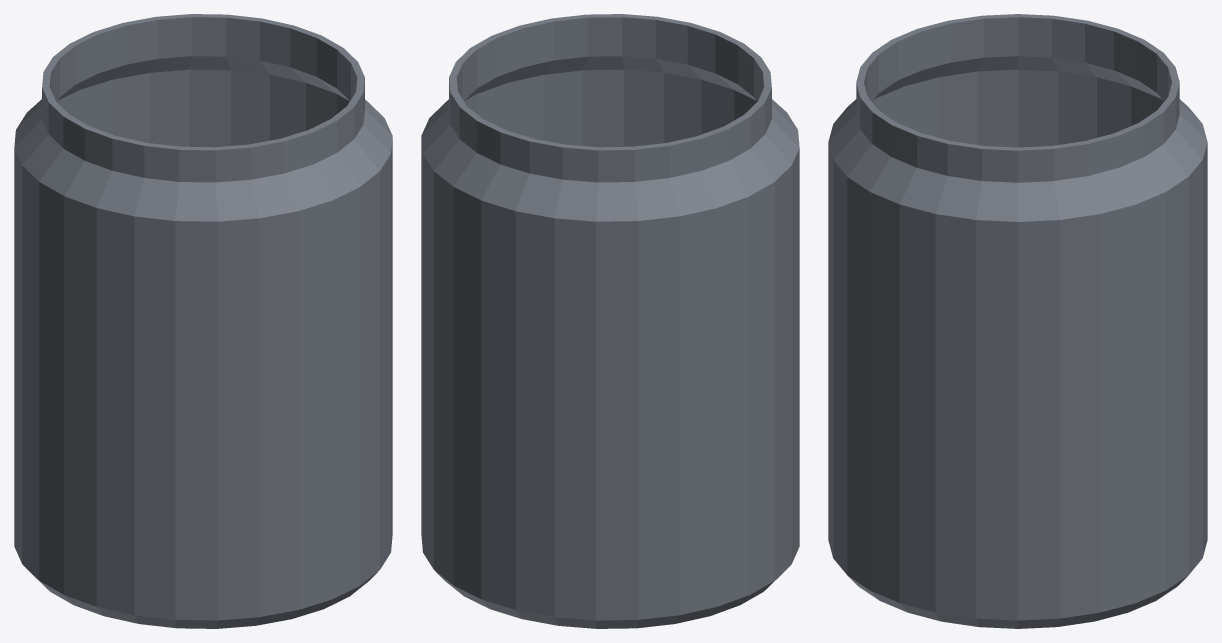
Rendered from jar_cylinder.obj.
3 renders of one model, left to right at view 1: azimuth 30°, elevation 25°; view 2: azimuth 150°, elevation 25°; view 3: azimuth 270°, elevation 25°, orthographic.
Parts seen in each view (by area): view 1: jar_cylinder; view 2: jar_cylinder; view 3: jar_cylinder.
Part boxes in pixels (box(x1,y1,x2,y2)): jar_cylinder: box(14, 14, 392, 628); jar_cylinder: box(421, 14, 799, 628); jar_cylinder: box(828, 14, 1207, 628).
Size of the model in its own units: 0.15 by 0.206 by 0.15.
1 material, 1 textured.
